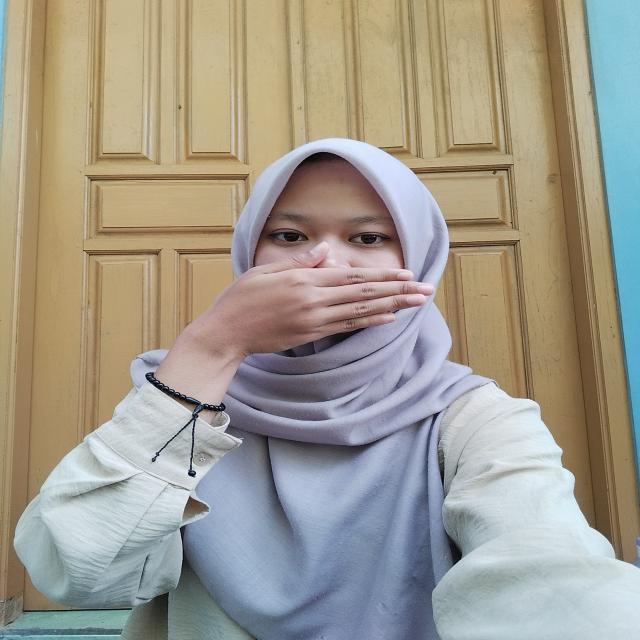buruk: (142, 248, 445, 394)
